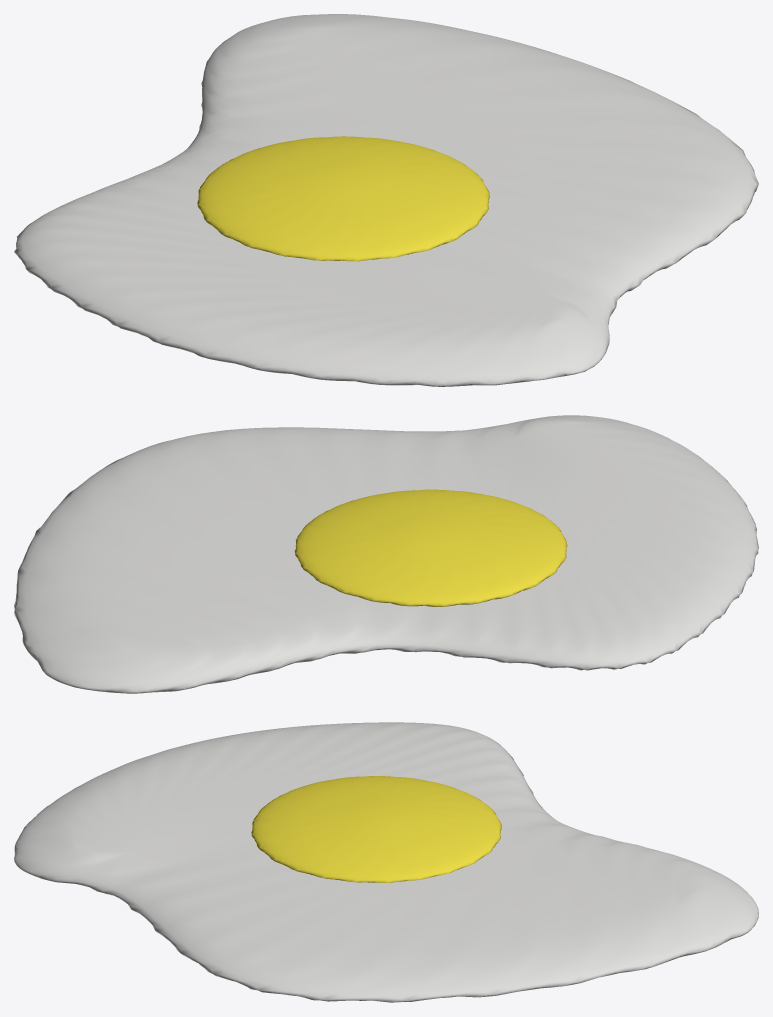
The model's file is ovo.fbx.
3 renders of one model, top to bottom at view 1: azimuth 30°, elevation 25°; view 2: azimuth 150°, elevation 25°; view 3: azimuth 270°, elevation 25°, orthographic. The views are drawn at different scales.
Visible parts, largest first — view 1: Line04, Cylinder02; view 2: Line04, Cylinder02; view 3: Line04, Cylinder02.
Part boxes in pixels (x1,y1,x2,y2): Line04: (14,14,758,386); Cylinder02: (197,136,489,261); Line04: (14,415,758,693); Cylinder02: (294,489,567,606); Line04: (14,722,758,1002); Cylinder02: (251,776,501,882).
Size of the model in its own units: 107 by 7.28 by 122.
